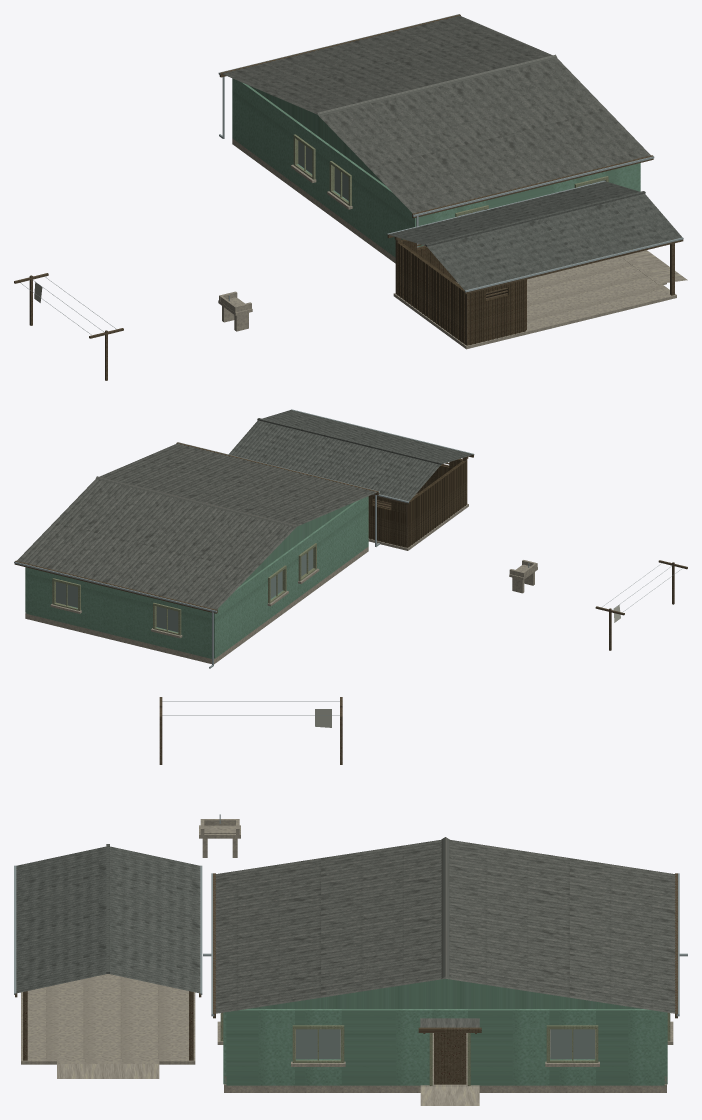
3 views of the same model, one above another, from view 1: azimuth 30°, elevation 25°; view 2: azimuth 150°, elevation 25°; view 3: azimuth 270°, elevation 25° (orthographic). The views are drawn at different scales.
Parts seen in each view (by area): view 1: H13_CHAPAS_ONDULADAS, H13_GARAGEM_COBERTURA, H13_FUNDOS, H13_GARAGEM_BASE, H13_GARAGEM_DEPOSITO_FUNDOS, H13_GARAGEM_DEPOSITO_MATA_JUNTAS, H13_GARAGEM_DEPOSITO_LATERAL, H13_LATERAIS, H13_OITOES, H13_BEIRAIS, H13_CAIXILHOS, H13_FUNDACAO (+8 smaller); view 2: H13_CHAPAS_ONDULADAS, H13_GARAGEM_COBERTURA, H13_FUNDOS, H13_LATERAIS, H13_GARAGEM_DEPOSITO_FUNDOS, H13_GARAGEM_DEPOSITO_MATA_JUNTAS, H13_FUNDACAO, H13_GARAGEM_DEPOSITO_LATERAL, H13_VIDROS_RECUADOS, H13_CAIXILHOS, H13_OITOES, H13_BEIRAIS (+3 smaller); view 3: H13_CHAPAS_ONDULADAS, H13_FACHADA, H13_GARAGEM_COBERTURA, H13_GARAGEM_BASE, H13_OITOES, H13_FUNDACAO, H13_VIDROS_RECUADOS, H13_PORTA_FOLHA, H13_CAIXILHOS, H13_GARAGEM_RAMPA, H13_CUMEEIRA, H13_RAMPA (+4 smaller).
Boxes of the visible parts, <box> form: H13_CHAPAS_ONDULADAS: <box>222,15,650,213</box>; H13_GARAGEM_COBERTURA: <box>388,181,681,290</box>; H13_FUNDOS: <box>232,78,416,257</box>; H13_GARAGEM_BASE: <box>393,256,676,349</box>; H13_GARAGEM_DEPOSITO_FUNDOS: <box>396,242,465,344</box>; H13_GARAGEM_DEPOSITO_MATA_JUNTAS: <box>397,243,524,344</box>; H13_GARAGEM_DEPOSITO_LATERAL: <box>401,239,525,344</box>; H13_LATERAIS: <box>418,163,639,246</box>; H13_OITOES: <box>249,85,385,185</box>; H13_BEIRAIS: <box>219,14,653,218</box>; H13_CAIXILHOS: <box>293,134,608,216</box>; H13_FUNDACAO: <box>232,138,395,263</box>; H13_CHAPAS_ONDULADAS: <box>17,443,376,609</box>; H13_GARAGEM_COBERTURA: <box>228,410,473,501</box>; H13_FUNDOS: <box>214,496,368,658</box>; H13_LATERAIS: <box>26,567,211,658</box>; H13_GARAGEM_DEPOSITO_FUNDOS: <box>408,461,466,547</box>; H13_GARAGEM_DEPOSITO_MATA_JUNTAS: <box>370,461,465,547</box>; H13_FUNDACAO: <box>25,546,368,664</box>; H13_GARAGEM_DEPOSITO_LATERAL: <box>368,458,462,547</box>; H13_VIDROS_RECUADOS: <box>56,548,313,632</box>; H13_CAIXILHOS: <box>52,543,316,635</box>; H13_OITOES: <box>240,502,354,585</box>; H13_BEIRAIS: <box>14,442,379,613</box>; H13_CHAPAS_ONDULADAS: <box>215,840,675,1013</box>; H13_FACHADA: <box>226,1009,664,1085</box>; H13_GARAGEM_COBERTURA: <box>16,846,200,993</box>; H13_GARAGEM_BASE: <box>21,977,195,1064</box>; H13_OITOES: <box>248,979,642,1008</box>; H13_FUNDACAO: <box>224,1029,666,1092</box>; H13_VIDROS_RECUADOS: <box>296,1029,594,1059</box>; H13_PORTA_FOLHA: <box>434,1033,466,1084</box>; H13_CAIXILHOS: <box>220,1012,670,1062</box>; H13_GARAGEM_RAMPA: <box>57,1064,159,1078</box>; H13_CUMEEIRA: <box>441,837,449,978</box>; H13_RAMPA: <box>420,1087,479,1105</box>.
Bounding box in the file's own units: 26.79 × 4.28 × 21.68.
Materials: 11 (8 with a texture image).
